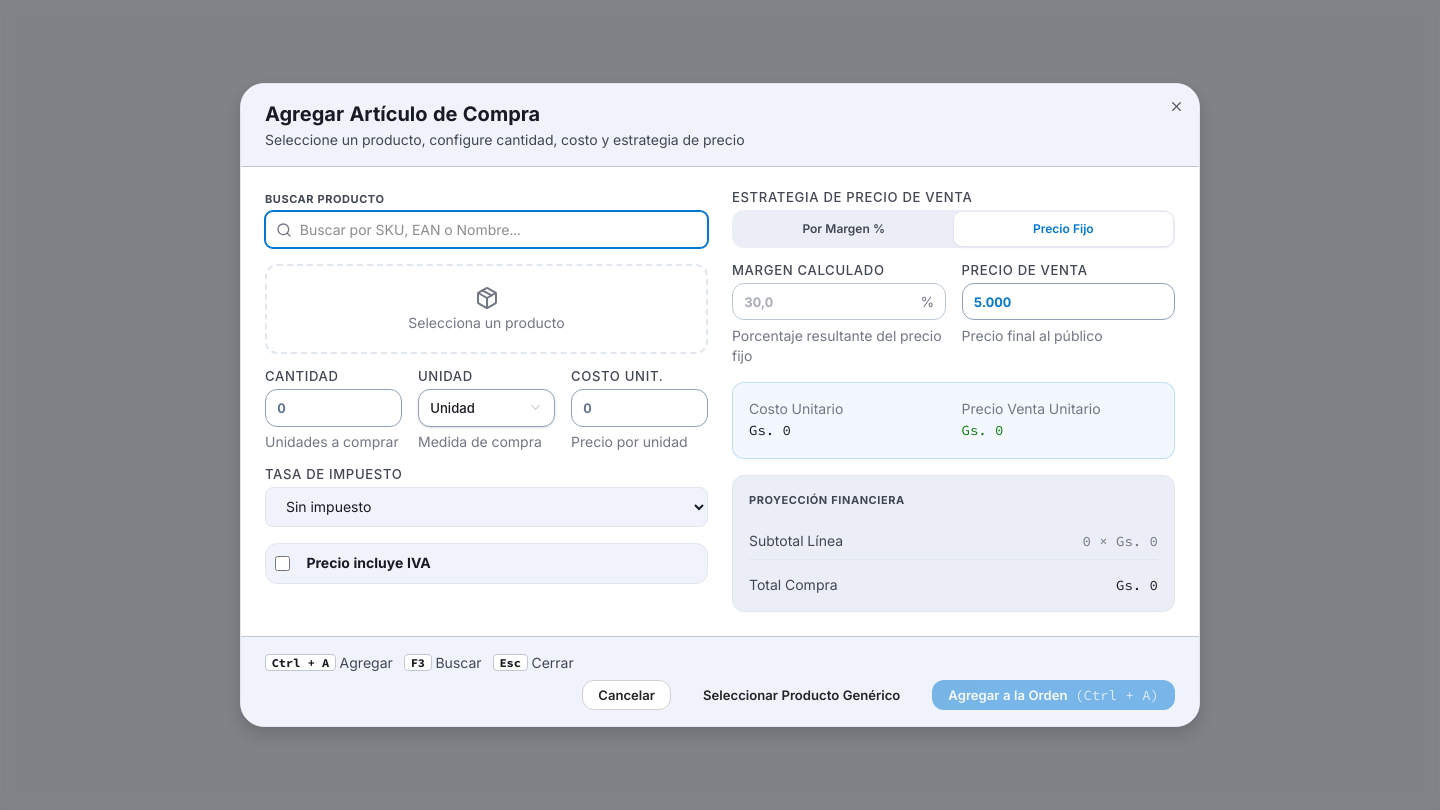
it: PurchaseProductModal — formateo de inputs numéricos › precio de venta (modo fijo): muestra agrupado y reporta número
Replace the text in the field labelled "Precio de Venta" with "7500" at (1068, 302), box [962,283,1175,320]
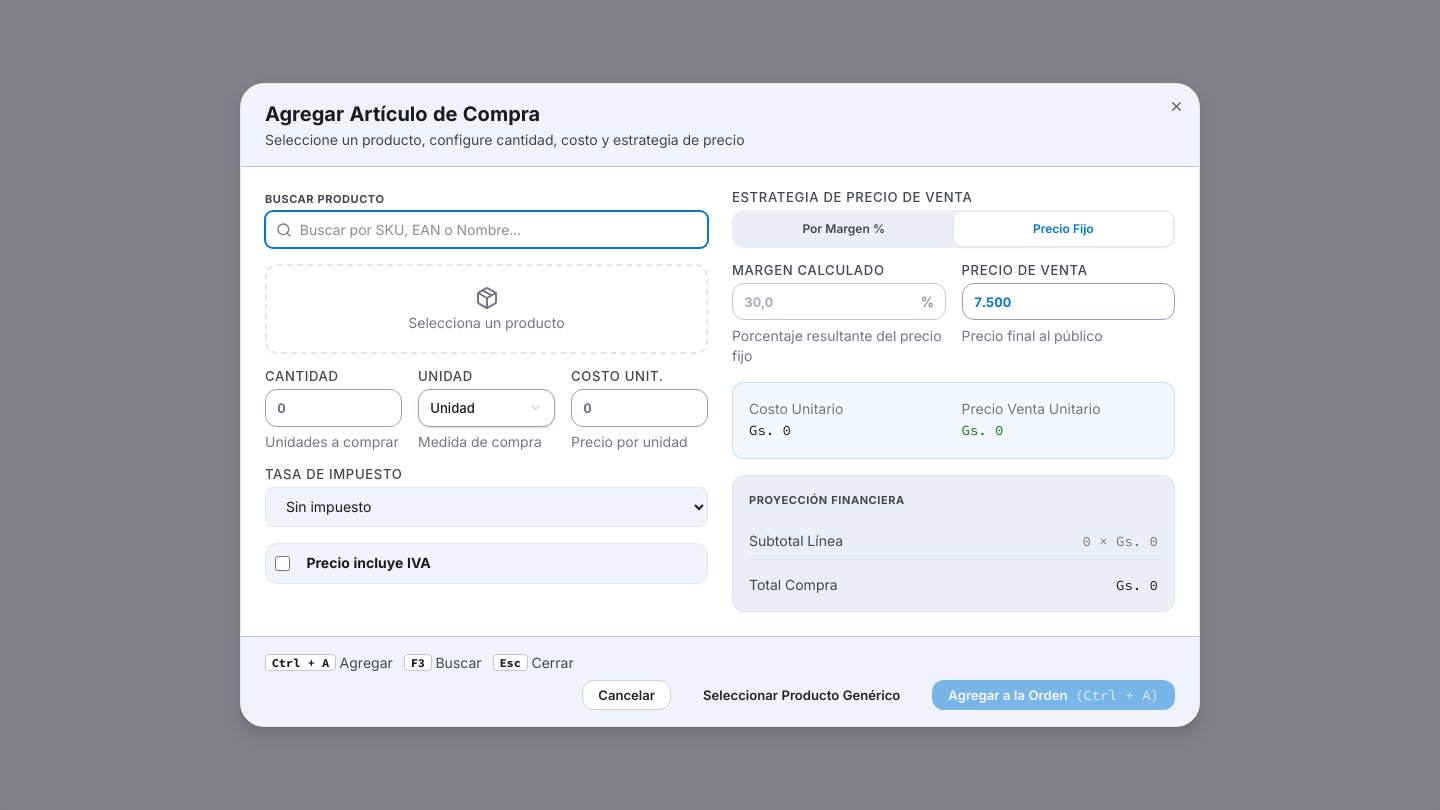
Result: the field labelled "Precio de Venta" holds "7.500" at [962,283,1175,320]
